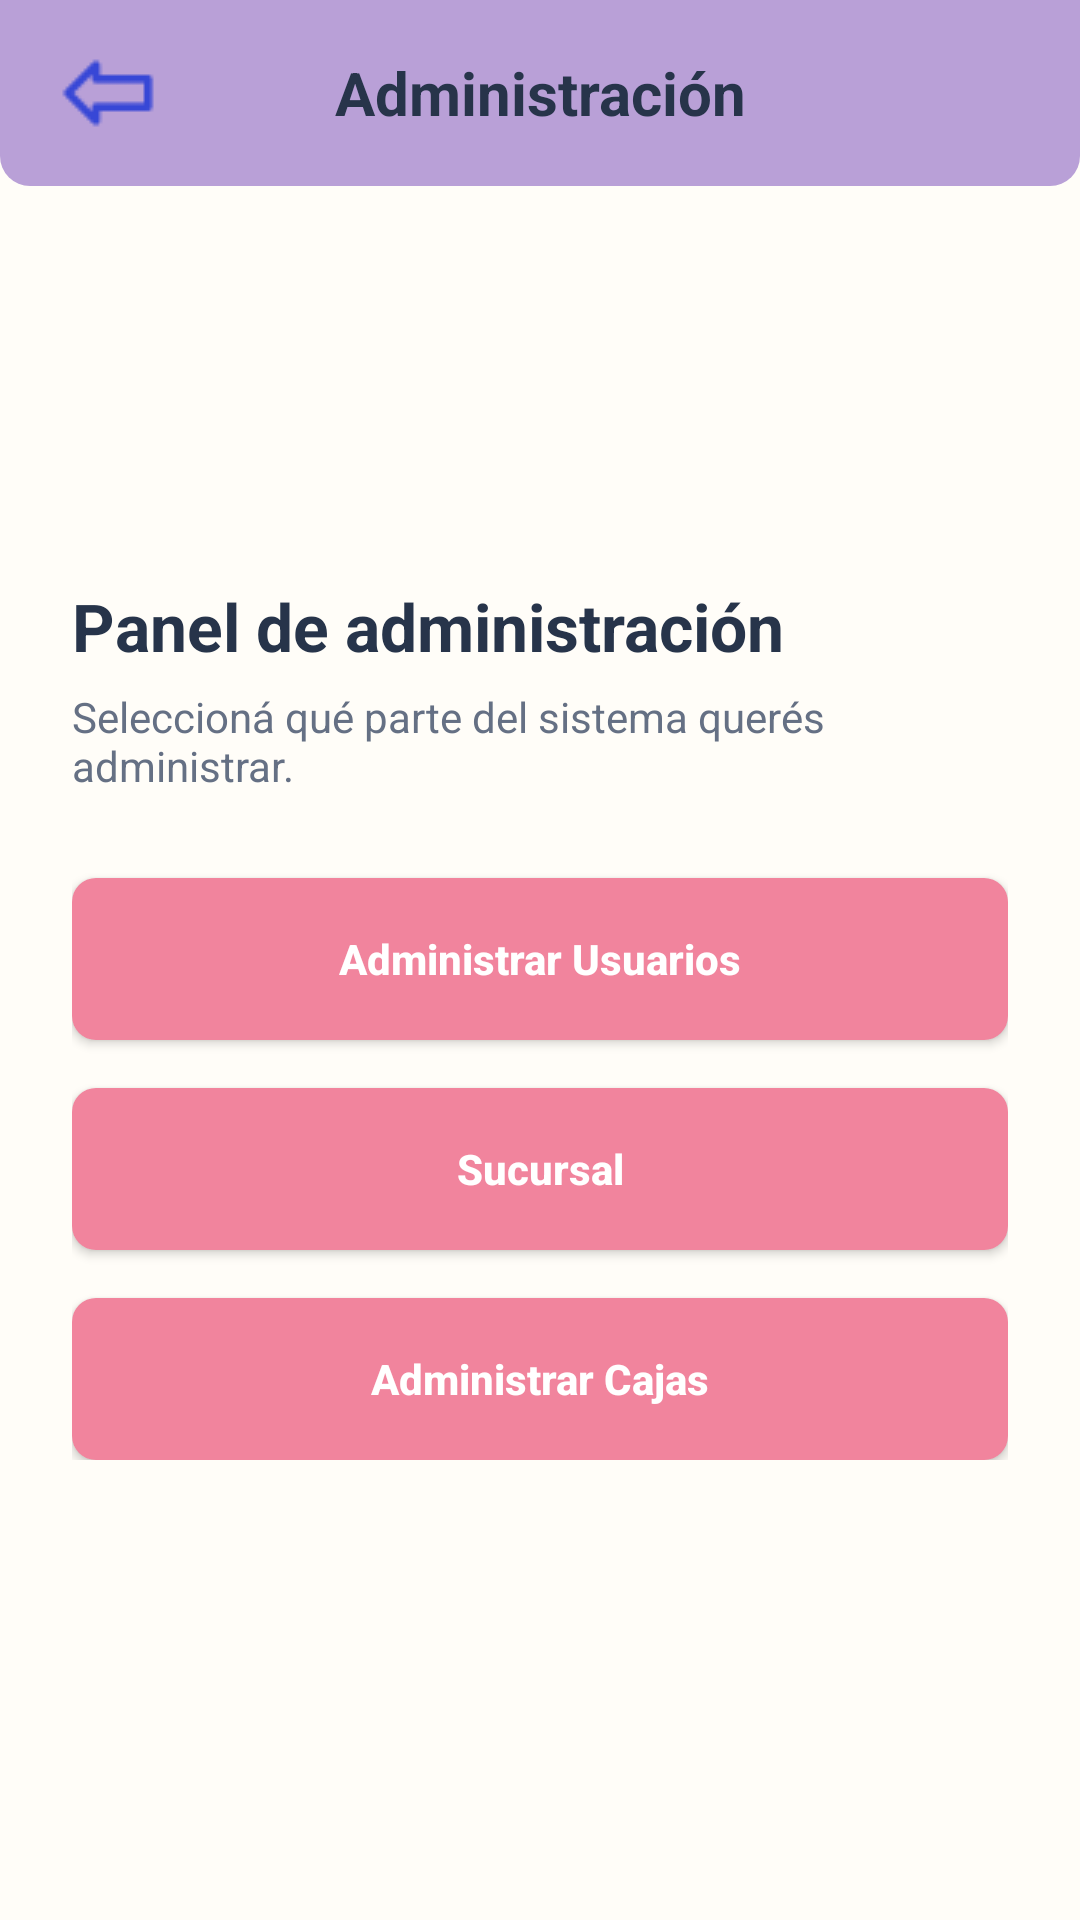

Icons on this 1080w x 1920h Android screen, each with the point to tap as [x,y]:
Volver: [108,93]
